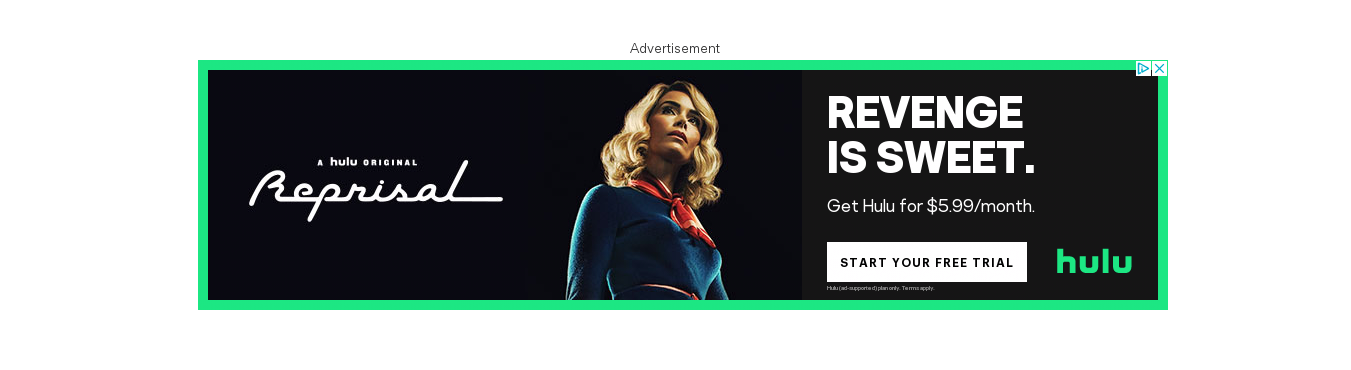fake_button: (815, 238, 1039, 285)
